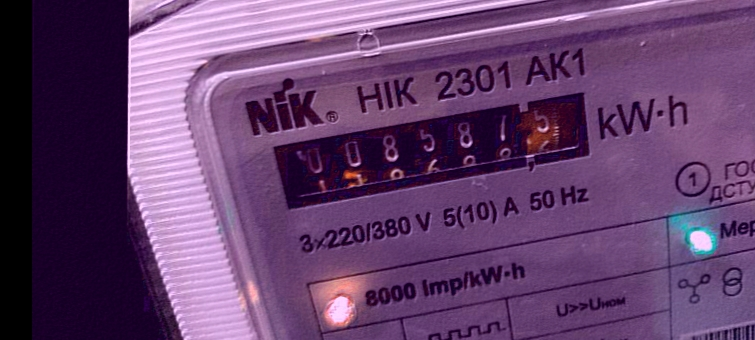0: (340, 136, 367, 170), (302, 144, 329, 176)
5: (417, 124, 440, 155), (531, 103, 553, 134)
6: (536, 138, 554, 155)
7: (492, 112, 514, 146)
8: (454, 118, 477, 152), (380, 133, 404, 165)
screen: (265, 89, 613, 215)
